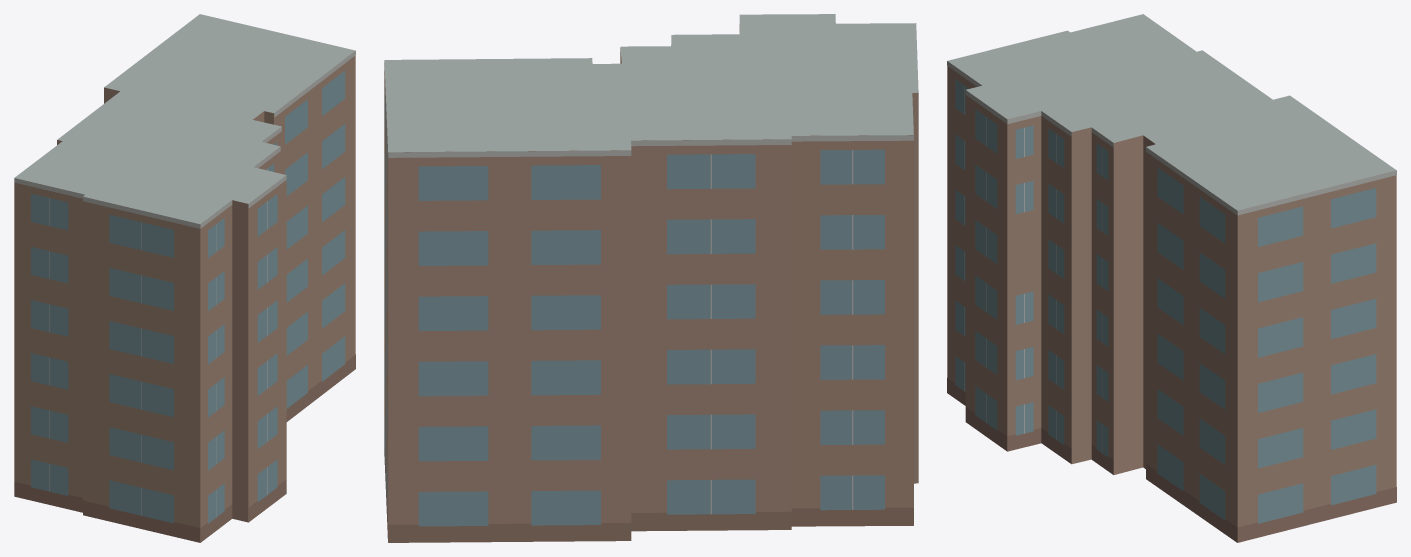
Rendered from survey-upis-32725582.glb.
The picture shows the model from 3 angles, left to right: view 1: azimuth 30°, elevation 25°; view 2: azimuth 150°, elevation 25°; view 3: azimuth 270°, elevation 25°; orthographic projection. The views are drawn at different scales.
Parts seen in each view (by area): view 1: survey-upis-32725582.tmp; view 2: survey-upis-32725582.tmp; view 3: survey-upis-32725582.tmp.
Boxes of the visible parts, x1,y1,x2,y2 form: survey-upis-32725582.tmp: [14, 14, 355, 542]; survey-upis-32725582.tmp: [384, 14, 918, 542]; survey-upis-32725582.tmp: [947, 14, 1396, 542].
Bounding box in the file's own units: 21.47 × 16.9 × 20.74.
